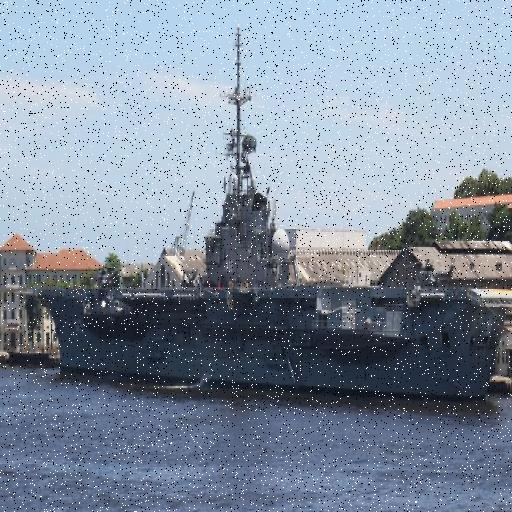Portanaves: (36, 4, 512, 408)
